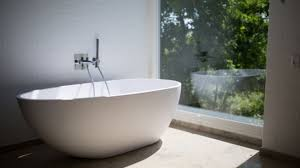bathub: (16, 75, 185, 160)
